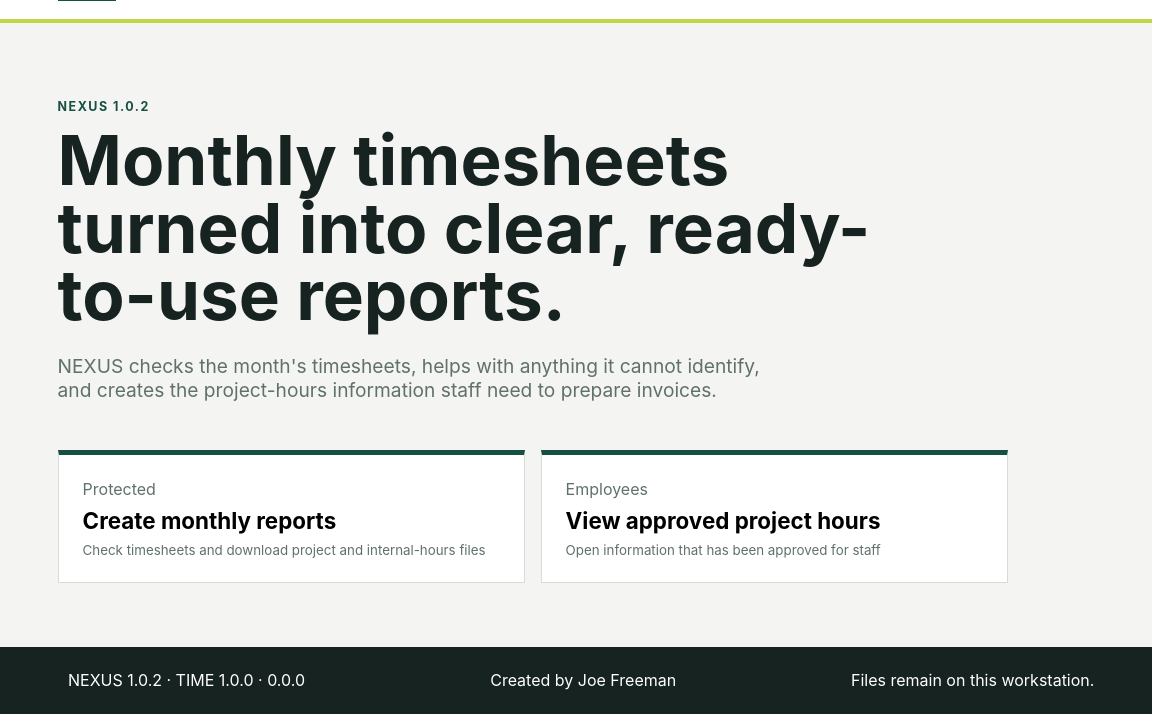
Test: shows NEXUS 1.0.2 production version and build information
The width and height of the screenshot is (1152, 714).
(page scrolled)
Click the button "NEXUS 1.0.2 · TIME 1.0.0 · 0.0.0". click: click(186, 680)
box: [58,660,315,701]
(page scrolled)
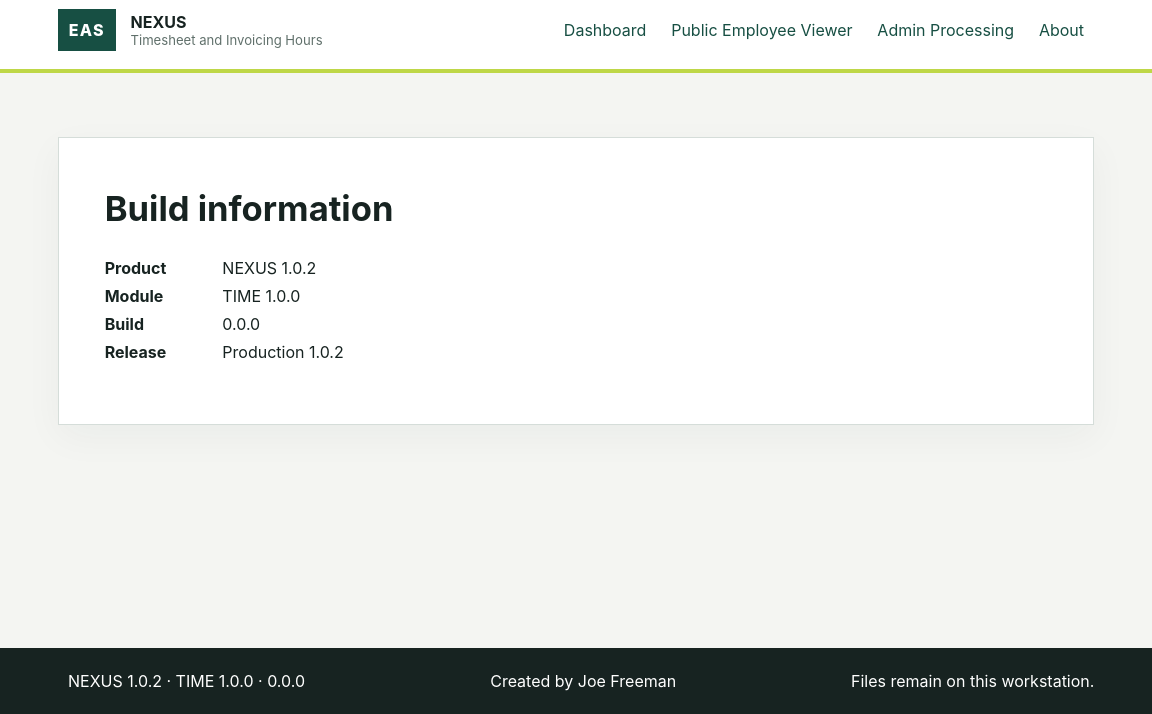
Expected: the text "TIME 1.0.0" is shown, [222,286,300,306]
Expected: the text "Production 1.0.2" is shown, [222,342,344,362]
